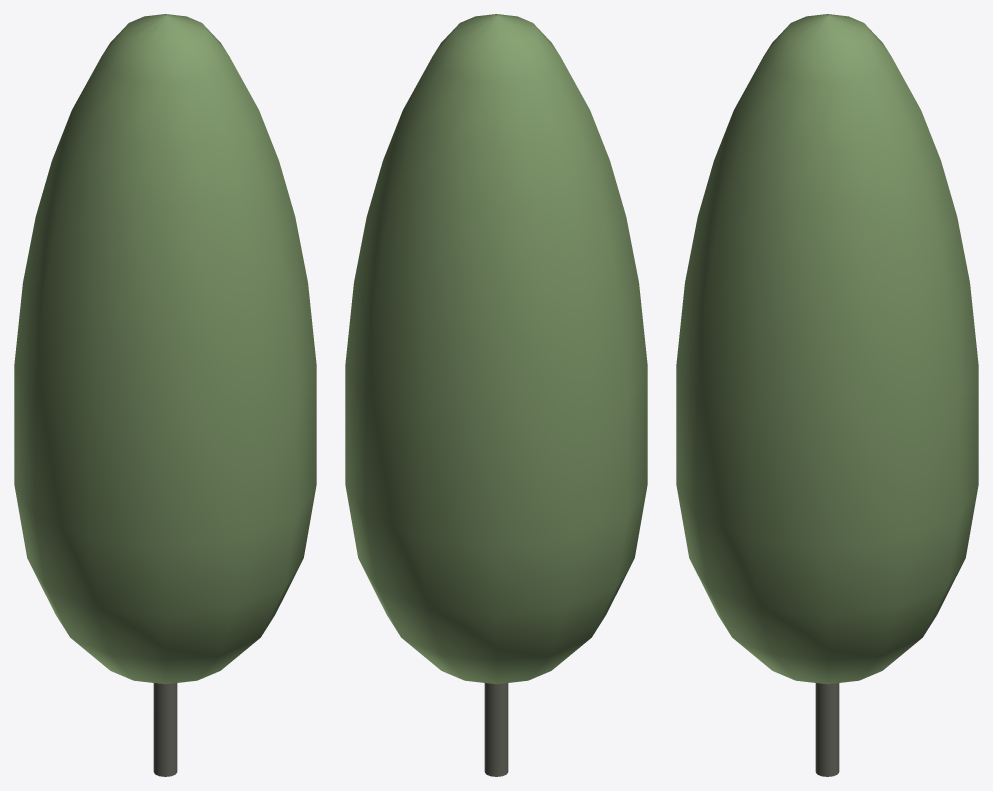
File: White_Poplar_Analytical_0.obj
3 views of the same model, side by side, from view 1: azimuth 30°, elevation 25°; view 2: azimuth 150°, elevation 25°; view 3: azimuth 270°, elevation 25° (orthographic).
Visible parts, largest first — view 1: AnalyticalCrown, AnalyticalTrunk; view 2: AnalyticalCrown, AnalyticalTrunk; view 3: AnalyticalCrown, AnalyticalTrunk.
Part boxes in pixels (x1,y1,x2,y2): AnalyticalCrown: (14,14,316,684); AnalyticalTrunk: (153,683,177,776); AnalyticalCrown: (345,14,647,684); AnalyticalTrunk: (484,683,508,776); AnalyticalCrown: (676,14,978,684); AnalyticalTrunk: (815,683,839,776).
Size of the model in its own units: 5.8 by 16 by 5.8.
